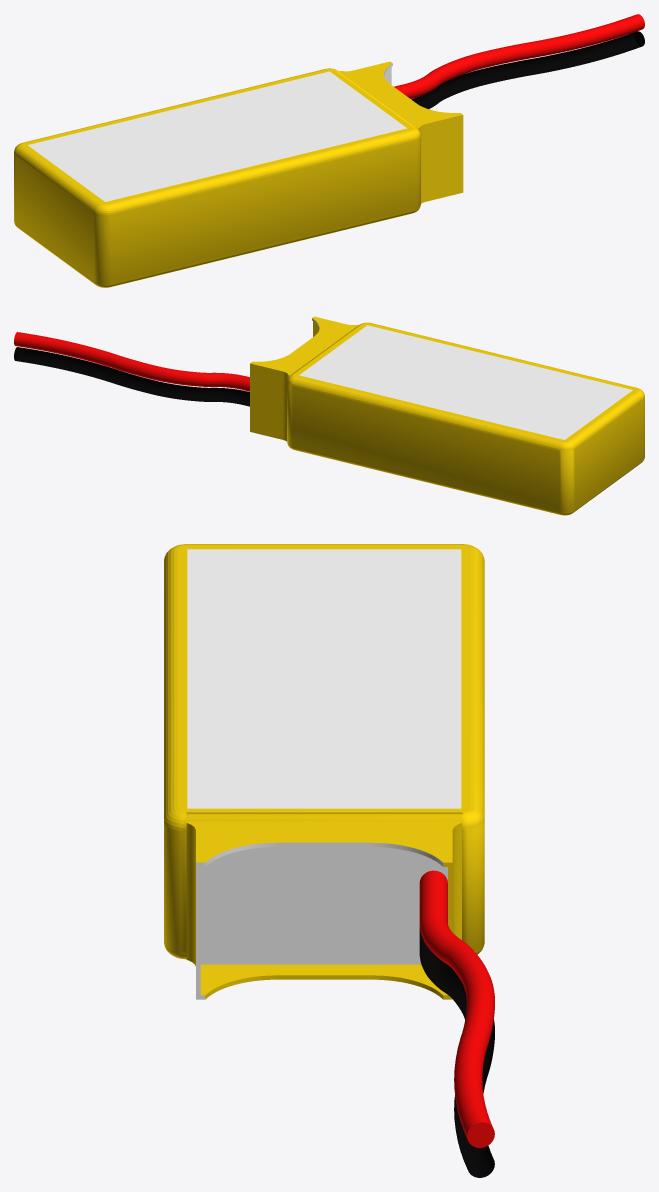
The model's file is Battery.fbx.
3 views of the same model, one above another, from view 1: azimuth 30°, elevation 25°; view 2: azimuth 150°, elevation 25°; view 3: azimuth 270°, elevation 25° (orthographic). The views are drawn at different scales.
Visible parts, largest first — view 1: Component_1_1, Component_3_1, Component_2_1, Component_2_2; view 2: Component_1_1, Component_3_1, Component_2_2, Component_2_1; view 3: Component_3_1, Component_1_1, Component_2_1, Component_2_2.
Boxes of the visible parts, bbox=[...] form: Component_1_1: bbox=[14, 61, 463, 287]; Component_3_1: bbox=[28, 71, 406, 201]; Component_2_1: bbox=[394, 14, 644, 98]; Component_2_2: bbox=[411, 31, 644, 109]; Component_1_1: bbox=[250, 316, 644, 515]; Component_3_1: bbox=[299, 325, 632, 439]; Component_2_2: bbox=[14, 347, 249, 406]; Component_2_1: bbox=[14, 332, 249, 391]; Component_3_1: bbox=[187, 549, 461, 808]; Component_1_1: bbox=[164, 544, 484, 999]; Component_2_1: bbox=[419, 870, 494, 1147]; Component_2_2: bbox=[419, 926, 494, 1177].
Bounding box in the file's own units: 136 × 17 × 35.1.
